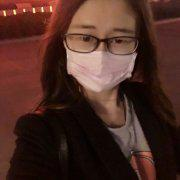OK: (66, 19, 139, 94)
